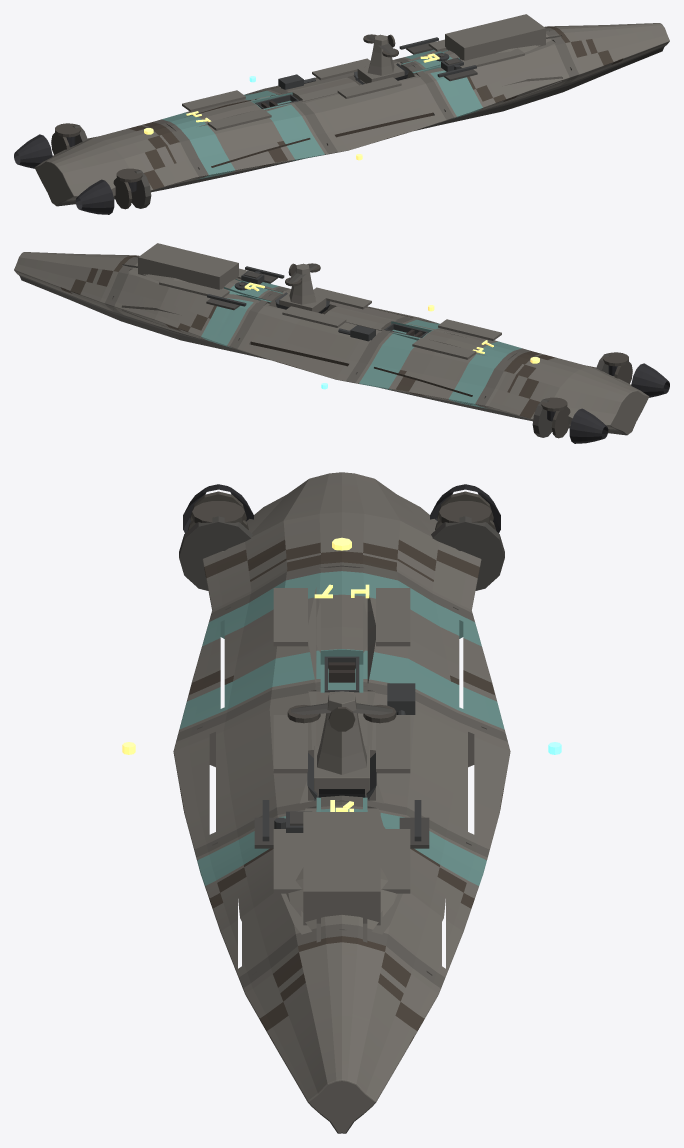
Rendered from ranger_production_v1_lod2.glb.
The picture shows the model from 3 angles, top to bottom: view 1: azimuth 30°, elevation 25°; view 2: azimuth 150°, elevation 25°; view 3: azimuth 270°, elevation 25°; orthographic projection. The views are drawn at different scales.
Visible parts, largest first — view 1: LOD0_Hull, LOD0_GunAft_Port, LOD0_Collar_Port, LOD0_Bell_Port, LOD0_Dish_Fore, LOD0_Bell_Stbd, LOD0_Beacon_Aft; view 2: LOD0_Hull, LOD0_GunAft_Port, LOD0_Collar_Port, LOD0_Bell_Stbd, LOD0_Dish_Fore, LOD0_Bell_Port, LOD0_Beacon_Aft; view 3: LOD0_Hull, LOD0_Collar_Port, LOD0_GunAft_Port, LOD0_Dish_Fore, LOD0_Bell_Nozzle_Port, LOD0_Bell_Nozzle_Stbd.
Part boxes in pixels (x1,y1,x2,y2): LOD0_Hull: (34, 14, 669, 206); LOD0_GunAft_Port: (255, 37, 476, 108); LOD0_Collar_Port: (70, 34, 477, 208); LOD0_Bell_Port: (75, 179, 114, 214); LOD0_Dish_Fore: (51, 34, 398, 209); LOD0_Bell_Stbd: (14, 134, 52, 168); LOD0_Beacon_Aft: (144, 53, 439, 160); LOD0_Hull: (14, 243, 649, 435); LOD0_GunAft_Port: (207, 266, 428, 341); LOD0_Collar_Port: (206, 263, 613, 437); LOD0_Bell_Stbd: (569, 408, 608, 443); LOD0_Dish_Fore: (285, 263, 632, 438); LOD0_Bell_Port: (631, 363, 669, 397); LOD0_Beacon_Aft: (244, 282, 539, 363); LOD0_Hull: (173, 472, 510, 1133); LOD0_Collar_Port: (179, 516, 504, 848); LOD0_GunAft_Port: (262, 656, 421, 841); LOD0_Dish_Fore: (187, 491, 496, 731); LOD0_Bell_Nozzle_Port: (192, 501, 244, 522); LOD0_Bell_Nozzle_Stbd: (439, 501, 491, 522).
Size of what is drawn, in the model's own units: 17.17 by 2.67 by 5.32.
